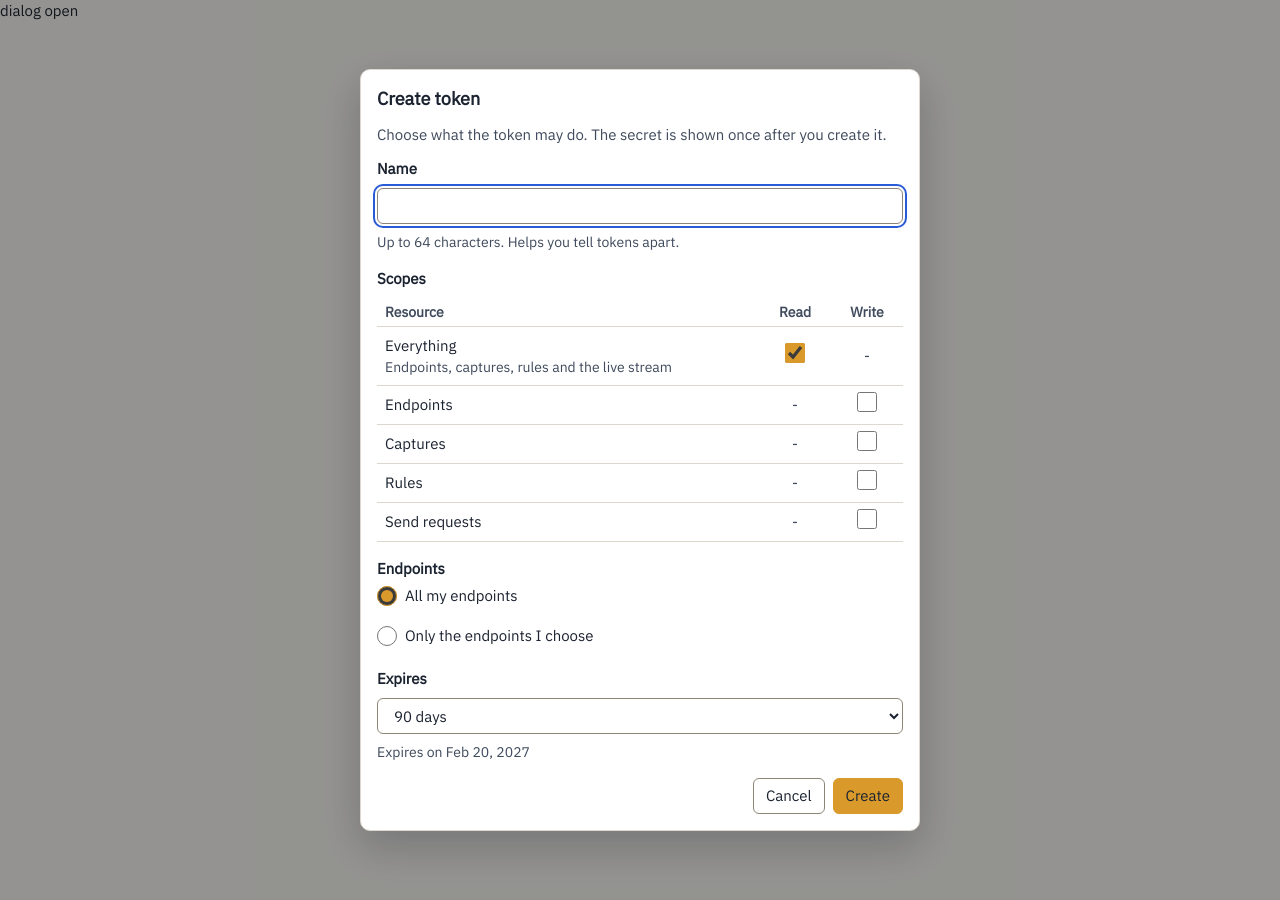
create token dialog › shows validation messages and sends nothing for an empty name and no scopes
The width and height of the screenshot is (1280, 900).
Click the checkbox named "Read" at (795, 353), box left=785, top=343, right=805, bottom=363
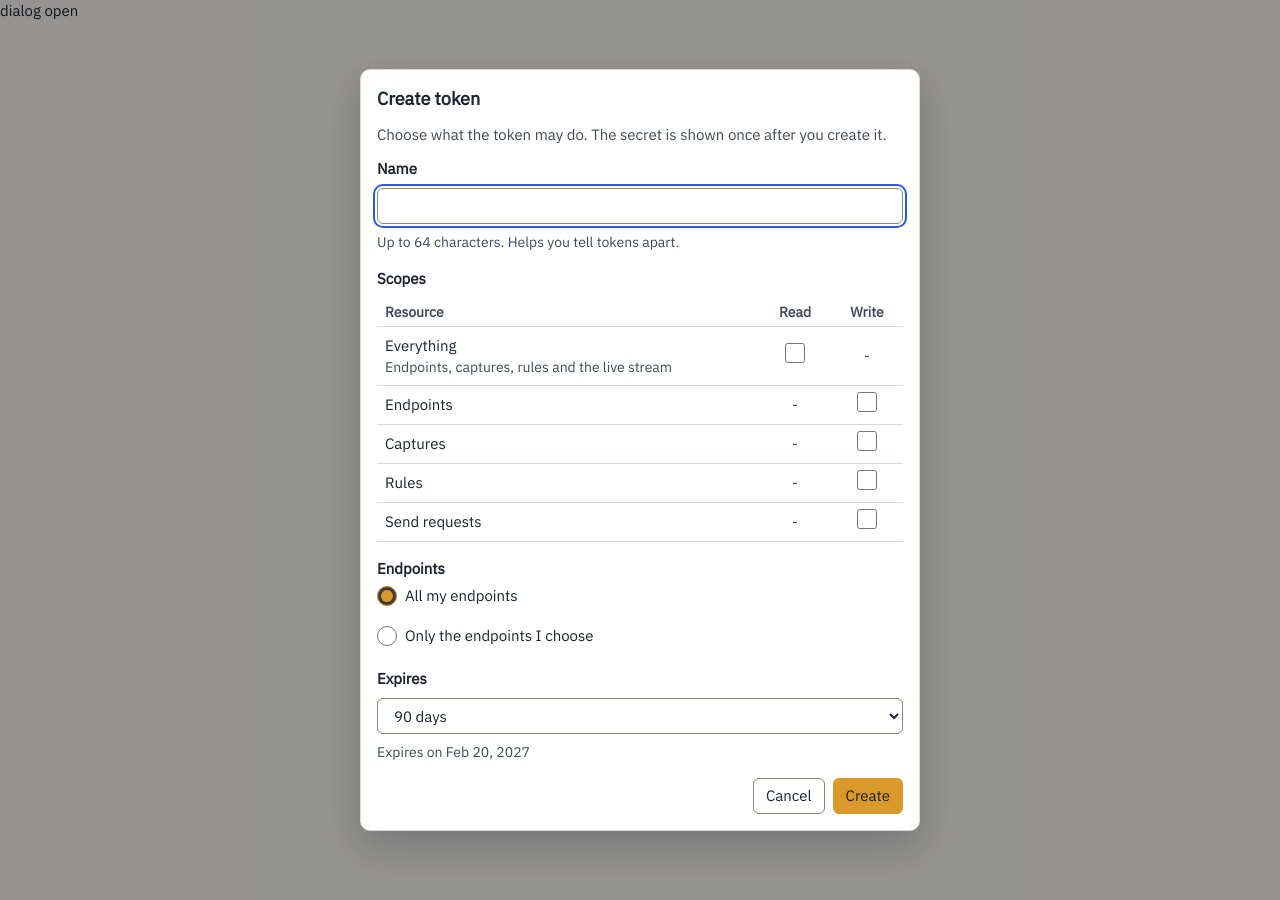
Click the button "Create" at (868, 796), box left=833, top=778, right=903, bottom=814
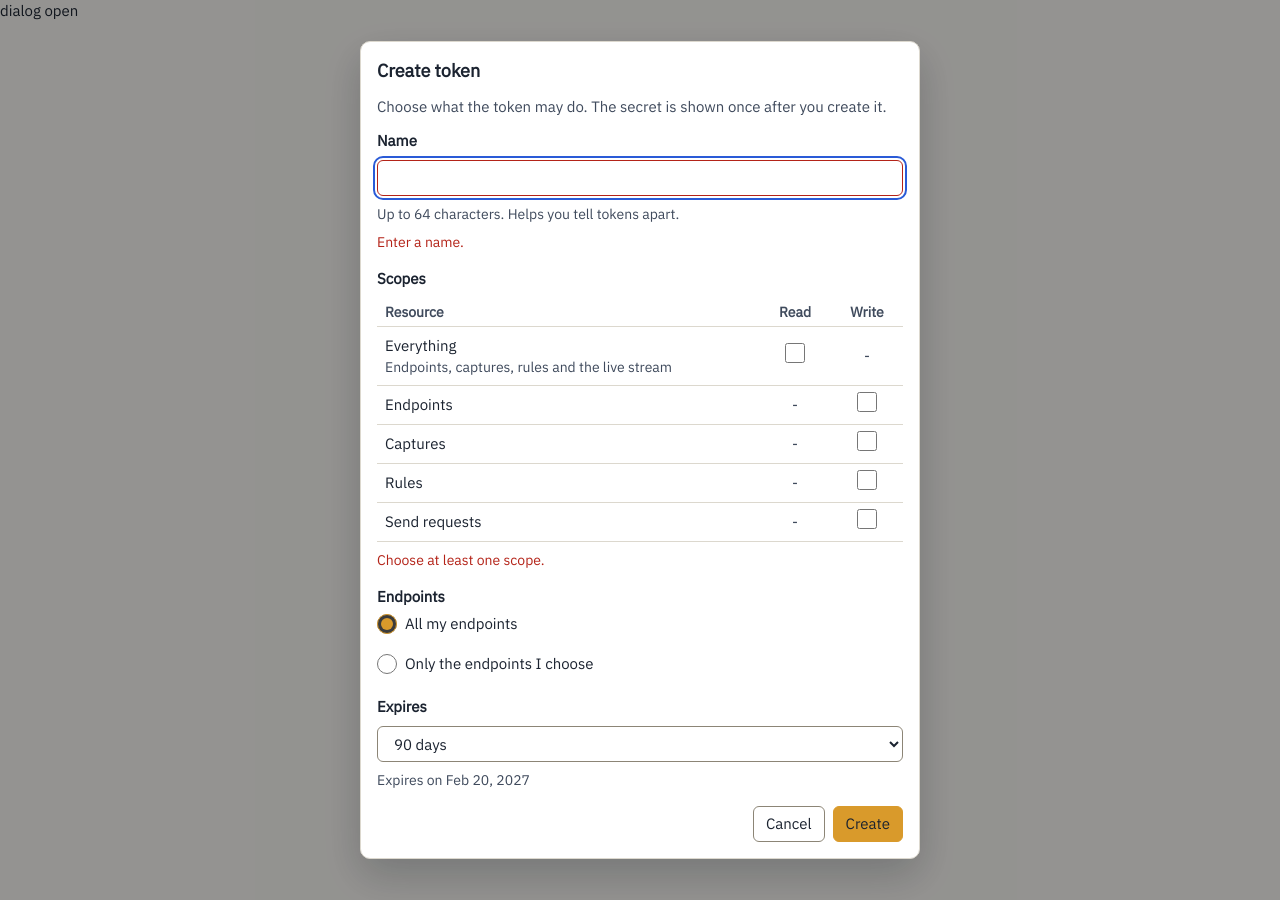
Expected: the text "Enter a name." is shown, left=377, top=233, right=464, bottom=251
Expected: the text "Choose at least one scope." is shown, left=377, top=551, right=544, bottom=569
